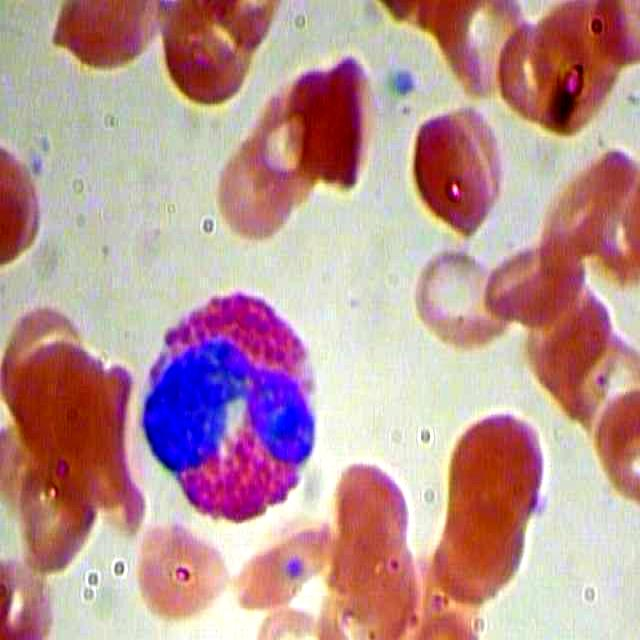Platelets: (382, 63, 419, 105)
RBC: (400, 98, 510, 242), (4, 326, 106, 471), (279, 50, 381, 194), (322, 446, 424, 590), (424, 472, 536, 603), (435, 403, 547, 533), (406, 235, 514, 362), (5, 446, 102, 578), (131, 509, 235, 627), (481, 219, 585, 336), (221, 520, 340, 619), (156, 1, 260, 112), (215, 116, 299, 249), (528, 1, 621, 116), (488, 15, 581, 130), (1, 135, 53, 273)
WBC: (128, 287, 336, 521)
